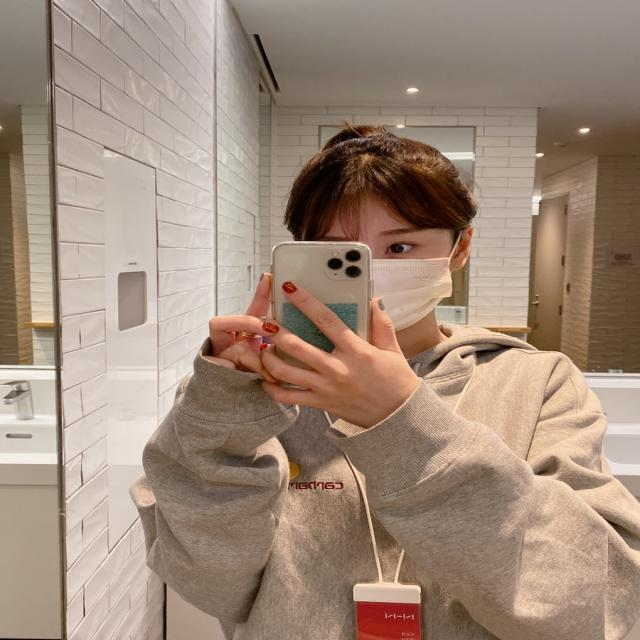phone: (272, 242, 372, 389)
